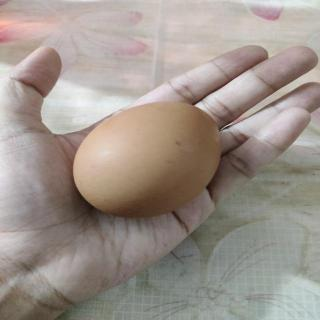Telur: (72, 102, 226, 218)
